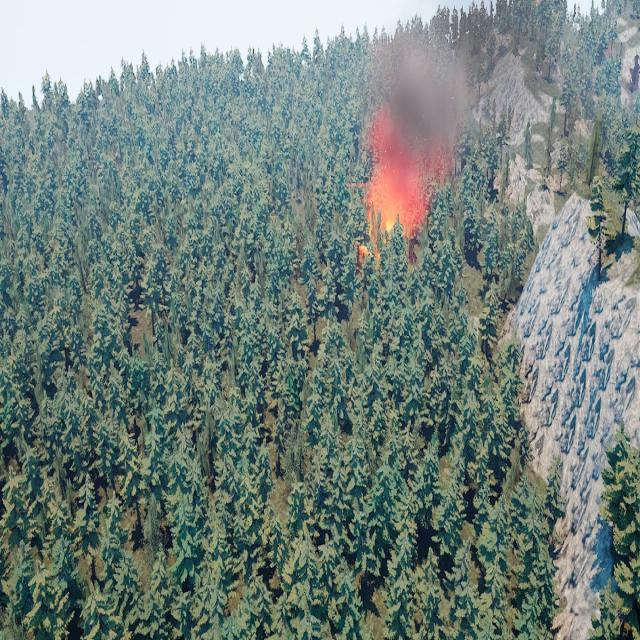fire: (360, 182, 401, 260)
smoke: (359, 2, 472, 222)
